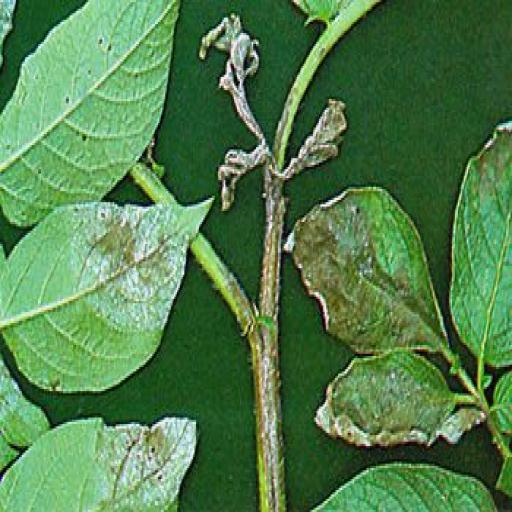Late Blight: (0, 186, 214, 398), (274, 178, 462, 380), (0, 412, 200, 512), (447, 112, 512, 369), (315, 345, 462, 444)
